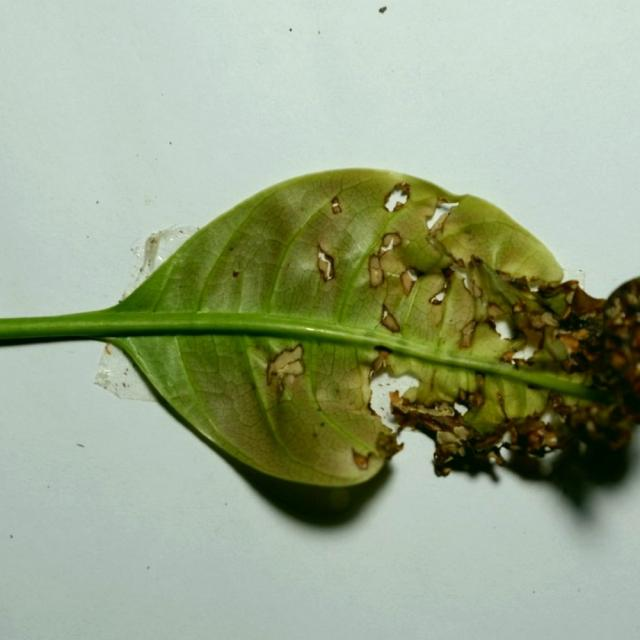Anthracnose: (305, 345, 374, 412), (375, 266, 418, 329), (402, 273, 449, 329), (265, 343, 307, 399), (368, 231, 405, 291), (391, 394, 459, 423), (313, 225, 339, 287), (431, 435, 468, 475), (512, 316, 550, 354), (563, 284, 604, 318), (467, 424, 509, 452), (610, 396, 639, 436), (600, 420, 633, 452), (427, 202, 457, 236), (372, 430, 403, 462), (525, 424, 559, 453), (424, 232, 452, 263), (383, 182, 411, 212), (542, 334, 570, 364), (522, 308, 557, 331), (620, 354, 640, 392), (428, 276, 451, 308), (412, 414, 446, 435), (435, 429, 464, 451), (370, 349, 391, 379), (276, 358, 304, 380), (367, 253, 384, 289), (558, 333, 583, 357), (461, 274, 481, 302), (380, 306, 400, 333), (459, 320, 476, 350), (605, 296, 624, 322), (380, 232, 402, 253), (399, 269, 416, 296), (485, 302, 507, 322), (608, 405, 630, 425), (609, 350, 628, 371), (506, 338, 528, 355), (286, 344, 304, 364), (559, 279, 581, 294), (512, 275, 533, 290), (527, 444, 549, 458), (352, 451, 369, 469), (487, 450, 505, 467), (468, 391, 484, 409), (452, 425, 470, 441), (434, 461, 452, 477), (388, 389, 402, 409), (571, 327, 590, 341), (509, 356, 531, 368), (500, 350, 518, 363), (506, 424, 518, 443), (560, 304, 573, 321), (330, 196, 342, 214), (475, 372, 485, 391), (441, 266, 454, 280), (496, 392, 505, 412), (435, 197, 450, 209), (277, 376, 286, 396), (566, 288, 576, 305), (471, 255, 484, 268), (507, 442, 523, 452), (512, 302, 525, 314), (406, 269, 418, 282), (626, 292, 637, 306), (529, 276, 542, 287), (400, 182, 410, 195), (455, 257, 466, 268), (430, 296, 442, 305), (381, 310, 389, 322), (104, 344, 112, 355), (587, 421, 595, 432), (232, 269, 240, 278)
Mango: (0, 168, 639, 527)
